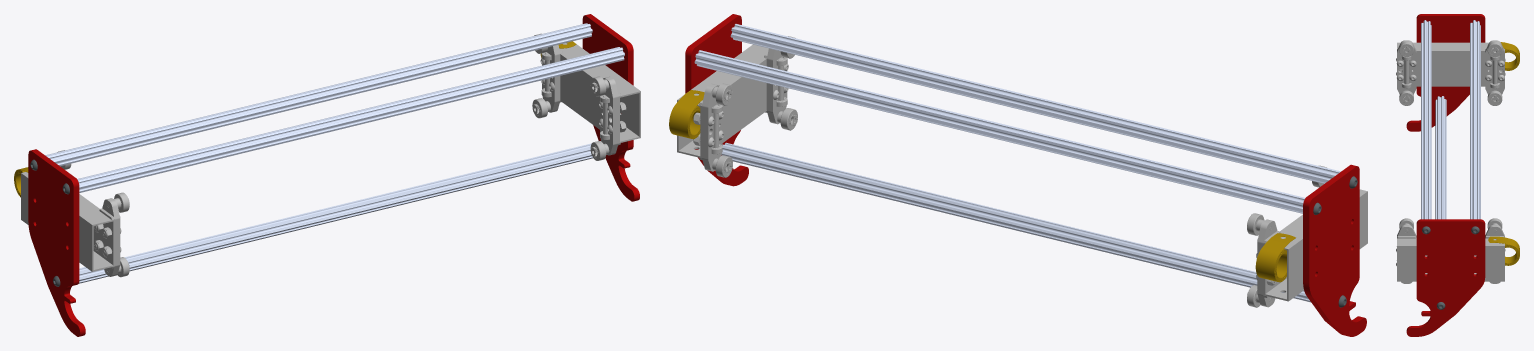
3 views of the same model, side by side, from view 1: azimuth 30°, elevation 25°; view 2: azimuth 150°, elevation 25°; view 3: azimuth 270°, elevation 25° (orthographic). The views are drawn at different scales.
Visible parts, largest first — view 1: CL hook cross brace churro:3, CL hook cross brace churro:2, CL hook cross brace churro:1, CL hook:2, CL hook side vert tube:1, CL hook:1, CL hook side vert tube:2, NAUO7 (×3); view 2: CL hook cross brace churro:2, CL hook cross brace churro:3, CL hook cross brace churro:1, CL hook:2, CL hook side vert tube:1, CL hook:1, NAUO7 (×3), CL hook side vert tube:2, 9293K56_Constant-Force Spring:1, 9293K56_Constant-Force Spring:2; view 3: CL hook:1, CL hook:2, CL hook side vert tube:2, CL hook cross brace churro:2, CL hook cross brace churro:3, CL hook side vert tube:1, NAUO7 (×4), CL hook cross brace churro:1, 9293K56_Constant-Force Spring:2, NAUO10 (×2), NAUO40 (×2), 9293K56_Constant-Force Spring:1 (+1 smaller).
Part boxes in pixels (x1,y1,x2,y2): CL hook cross brace churro:3: [77, 47, 624, 192]; CL hook cross brace churro:2: [45, 23, 592, 166]; CL hook cross brace churro:1: [79, 143, 606, 283]; CL hook:2: [28, 149, 85, 336]; CL hook side vert tube:1: [560, 43, 640, 143]; CL hook:1: [582, 14, 639, 201]; CL hook side vert tube:2: [21, 172, 114, 271]; NAUO7 (×3): [99, 45, 620, 276]; CL hook cross brace churro:2: [694, 50, 1305, 213]; CL hook cross brace churro:3: [730, 24, 1340, 183]; CL hook cross brace churro:1: [721, 142, 1310, 302]; CL hook:2: [1303, 164, 1366, 336]; CL hook side vert tube:1: [677, 44, 768, 158]; CL hook:1: [685, 14, 748, 186]; NAUO7 (×3): [699, 48, 1280, 307]; CL hook side vert tube:2: [1263, 189, 1367, 301]; 9293K56_Constant-Force Spring:1: [1255, 233, 1295, 282]; 9293K56_Constant-Force Spring:2: [669, 90, 704, 139]; CL hook:1: [1406, 219, 1485, 336]; CL hook:2: [1406, 14, 1485, 131]; CL hook side vert tube:2: [1397, 42, 1504, 86]; CL hook cross brace churro:2: [1470, 20, 1480, 219]; CL hook cross brace churro:3: [1421, 20, 1431, 219]; CL hook side vert tube:1: [1397, 238, 1504, 281]; NAUO7 (×4): [1397, 40, 1504, 283]; CL hook cross brace churro:1: [1435, 96, 1446, 219]; 9293K56_Constant-Force Spring:2: [1488, 236, 1519, 265]; NAUO10 (×2): [1399, 41, 1502, 105]; NAUO40 (×2): [1399, 41, 1502, 105]; 9293K56_Constant-Force Spring:1: [1501, 42, 1519, 70].
Bounding box in the file's own units: 0.6417 × 0.1651 × 0.1602.
